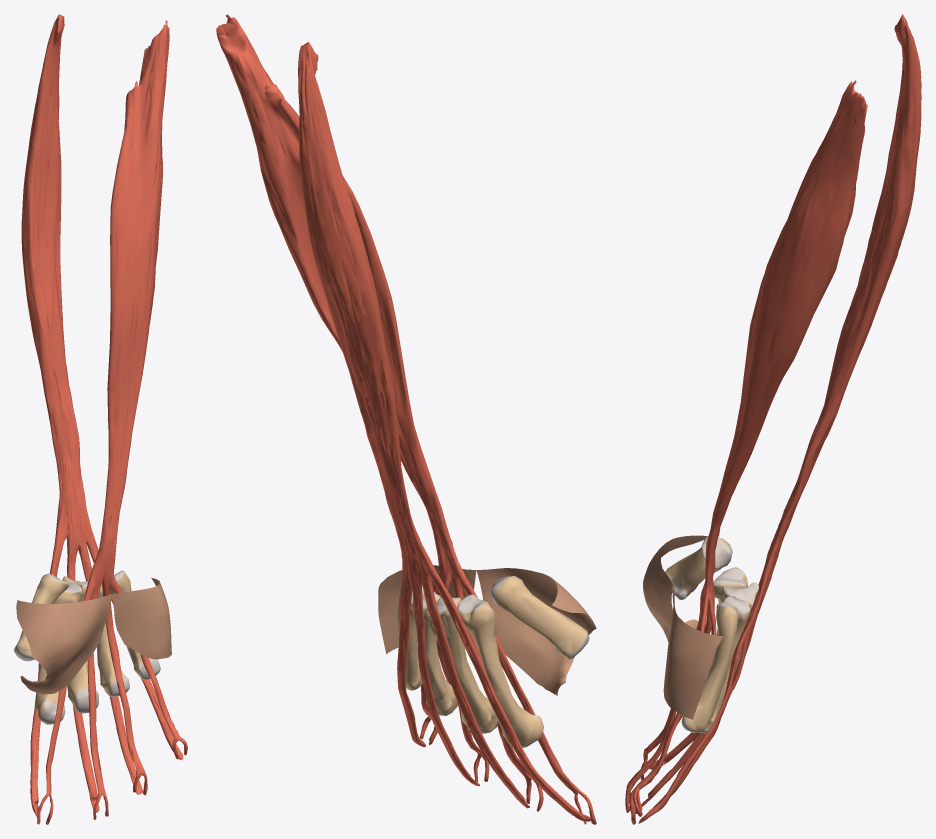
Rendered from hand.glb.
3 views of the same model, side by side, from view 1: azimuth 30°, elevation 25°; view 2: azimuth 150°, elevation 25°; view 3: azimuth 270°, elevation 25° (orthographic). The views are drawn at different scales.
Parts seen in each view (by area): view 1: muscle_flexor_digitorum_superficialis, muscle_extensor_digitorum, muscle_thenar_eminence, bone_metacarpals, muscle_hypothenar_eminence; view 2: muscle_extensor_digitorum, muscle_flexor_digitorum_superficialis, bone_metacarpals, muscle_thenar_eminence, muscle_hypothenar_eminence; view 3: muscle_flexor_digitorum_superficialis, muscle_extensor_digitorum, bone_metacarpals, muscle_hypothenar_eminence, muscle_thenar_eminence.
Part boxes in pixels (left/top/right/bottom): muscle_flexor_digitorum_superficialis: left=37, top=20, right=187, bottom=824; muscle_extensor_digitorum: left=21, top=14, right=183, bottom=817; muscle_thenar_eminence: left=16, top=594, right=112, bottom=694; bone_metacarpals: left=14, top=570, right=160, bottom=724; muscle_hypothenar_eminence: left=112, top=578, right=171, bottom=659; muscle_extensor_digitorum: left=298, top=41, right=591, bottom=821; muscle_flexor_digitorum_superficialis: left=216, top=14, right=596, bottom=824; bone_metacarpals: left=396, top=576, right=589, bottom=747; muscle_thenar_eminence: left=476, top=568, right=596, bottom=696; muscle_hypothenar_eminence: left=378, top=565, right=476, bottom=654; muscle_flexor_digitorum_superficialis: left=625, top=80, right=867, bottom=824; muscle_extensor_digitorum: left=638, top=14, right=921, bottom=823; bone_metacarpals: left=665, top=537, right=759, bottom=733; muscle_hypothenar_eminence: left=663, top=586, right=723, bottom=719; muscle_thenar_eminence: left=643, top=535, right=708, bottom=642.
Size of the model in its own units: 0.1359 by 0.3969 by 0.1268.
